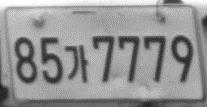5: (40, 36, 63, 84)
7: (143, 35, 166, 83), (117, 35, 140, 82), (92, 35, 114, 83)
8: (13, 36, 37, 83)
9: (170, 34, 194, 83)
가: (64, 44, 88, 83)
